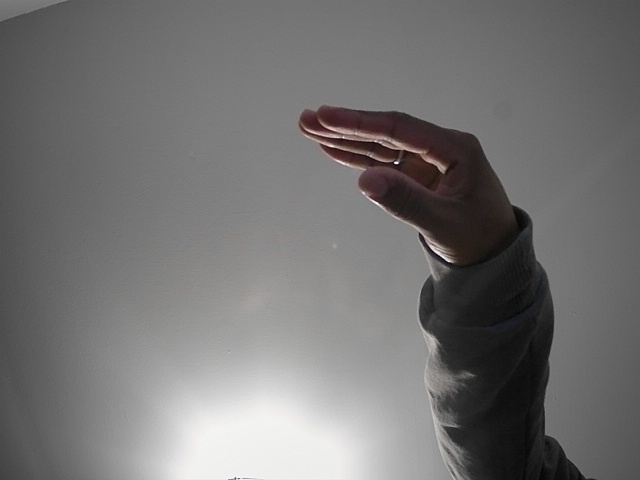No: (260, 84, 572, 274)
